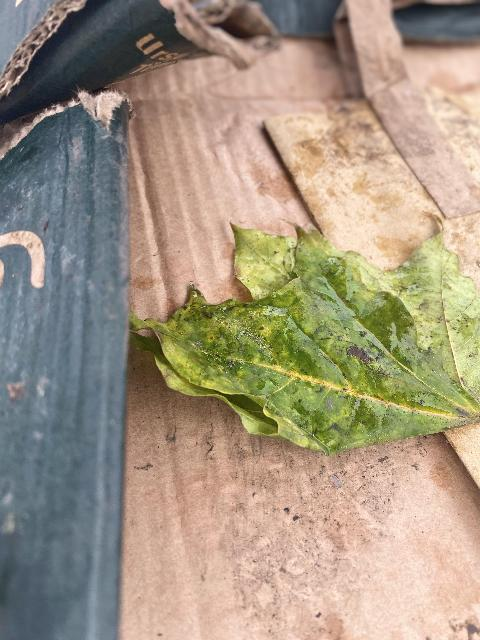Organik: (140, 222, 480, 456)
